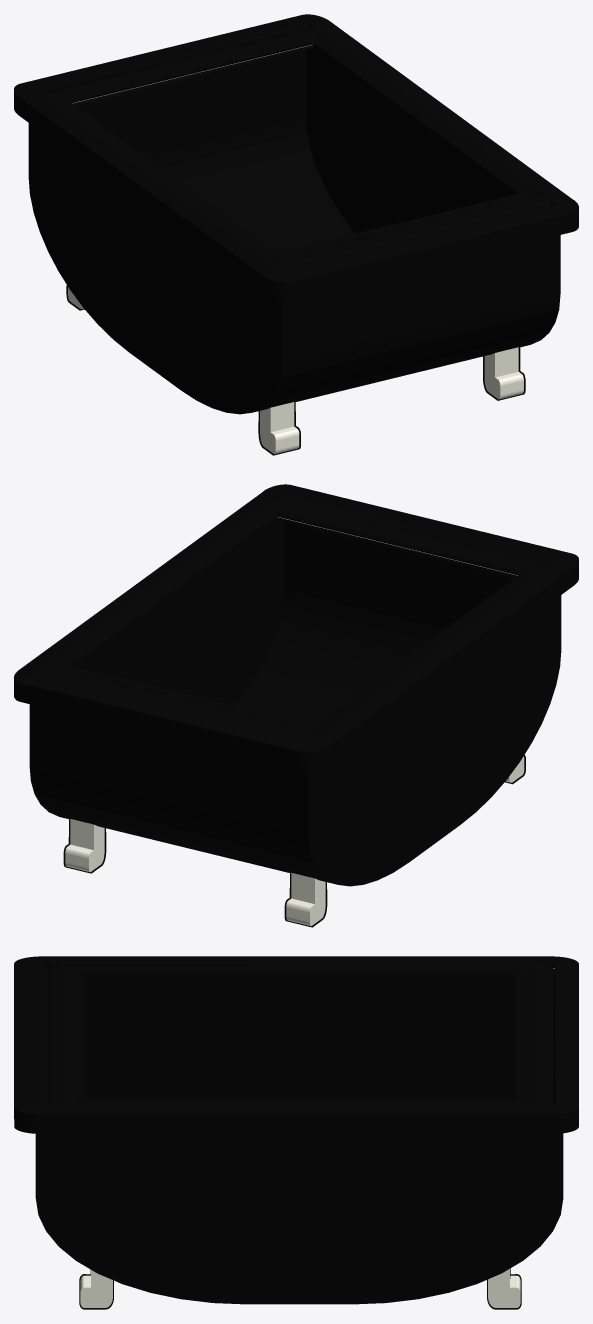
File: Banera.obj
3 views of the same model, one above another, from view 1: azimuth 30°, elevation 25°; view 2: azimuth 150°, elevation 25°; view 3: azimuth 270°, elevation 25° (orthographic). The views are drawn at different scales.
Visible parts, largest first — view 1: Bañera, Cubo; view 2: Bañera, Cubo; view 3: Bañera, Cubo.
Boxes of the visible parts, x1,y1,x2,y2 form: Bañera: (14, 14, 578, 414); Cubo: (66, 285, 525, 455); Bañera: (14, 484, 578, 886); Cubo: (63, 755, 525, 927); Bañera: (14, 956, 578, 1304); Cubo: (79, 1268, 521, 1309).
Size of the model in its own units: 1.82 by 1.14 by 2.75.
Materials: 4 (4 with a texture image).
